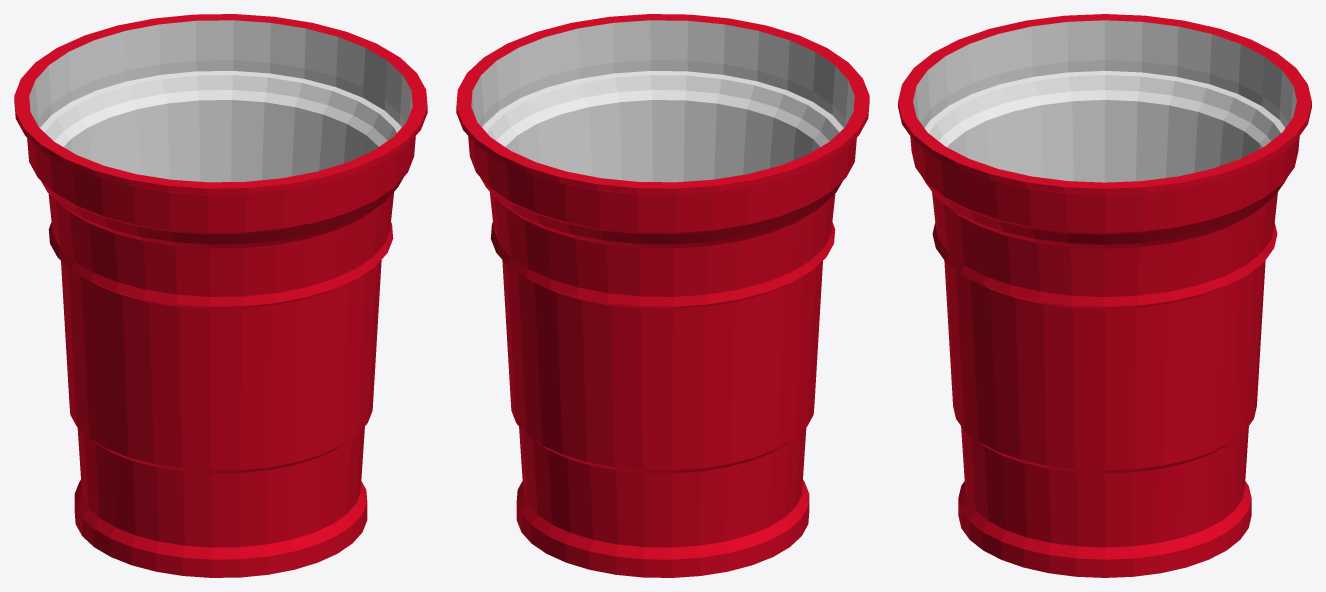
Rendered from plastic cup.fbx.
3 views of the same model, side by side, from view 1: azimuth 30°, elevation 25°; view 2: azimuth 150°, elevation 25°; view 3: azimuth 270°, elevation 25° (orthographic).
Visible parts, largest first — view 1: Cylinder; view 2: Cylinder; view 3: Cylinder.
Boxes of the visible parts, bbox=[...] form: Cylinder: bbox=[14, 14, 427, 577]; Cylinder: bbox=[456, 14, 869, 577]; Cylinder: bbox=[898, 14, 1311, 577].
Size of the model in its own units: 9.5 by 10.5 by 9.5.
